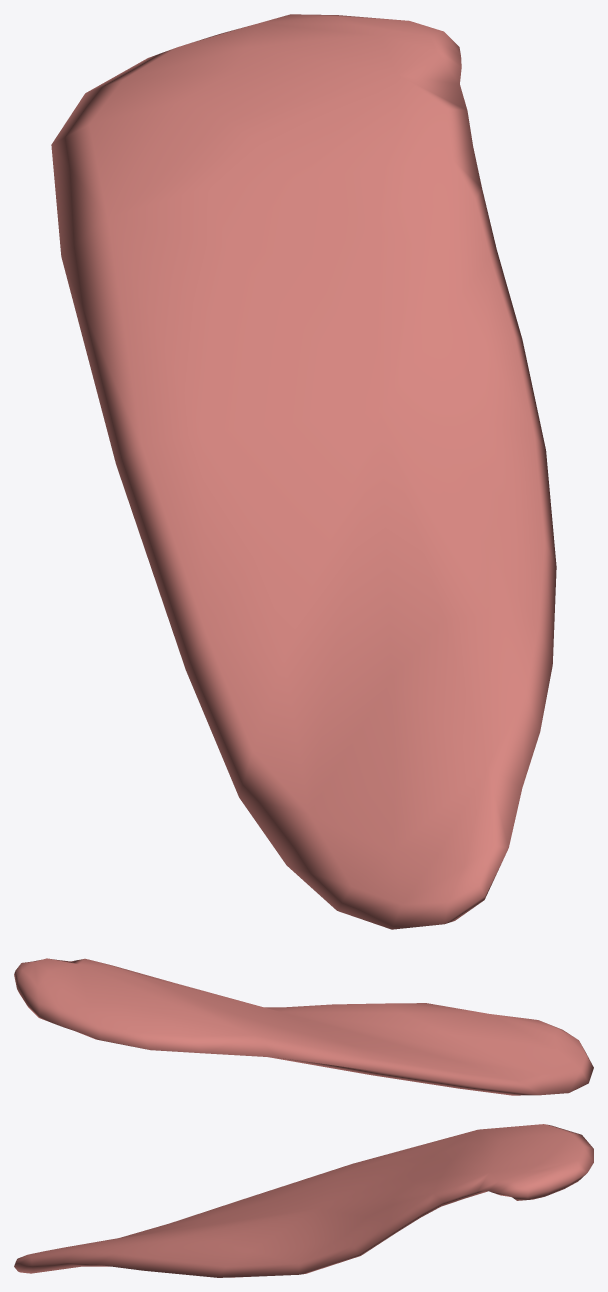
The picture shows the model from 3 angles, top to bottom: view 1: azimuth 30°, elevation 25°; view 2: azimuth 150°, elevation 25°; view 3: azimuth 270°, elevation 25°; orthographic projection. The views are drawn at different scales.
Visible parts, largest first — view 1: ZA_6af7cd46017f4c6a; view 2: ZA_6af7cd46017f4c6a; view 3: ZA_6af7cd46017f4c6a.
Part boxes in pixels (box(x1,y1,x2,y2)): ZA_6af7cd46017f4c6a: box(51, 14, 556, 929); ZA_6af7cd46017f4c6a: box(14, 958, 593, 1095); ZA_6af7cd46017f4c6a: box(14, 1124, 593, 1277).
Size of the model in its own units: 0.0076 by 0.00528 by 0.0132.
